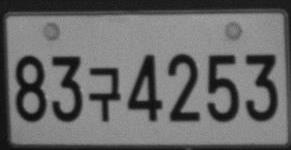2: (167, 53, 200, 121)
3: (245, 53, 278, 122), (51, 55, 83, 122)
4: (127, 54, 163, 121)
5: (206, 53, 239, 123)
8: (14, 53, 46, 123)
구: (88, 66, 122, 122)
